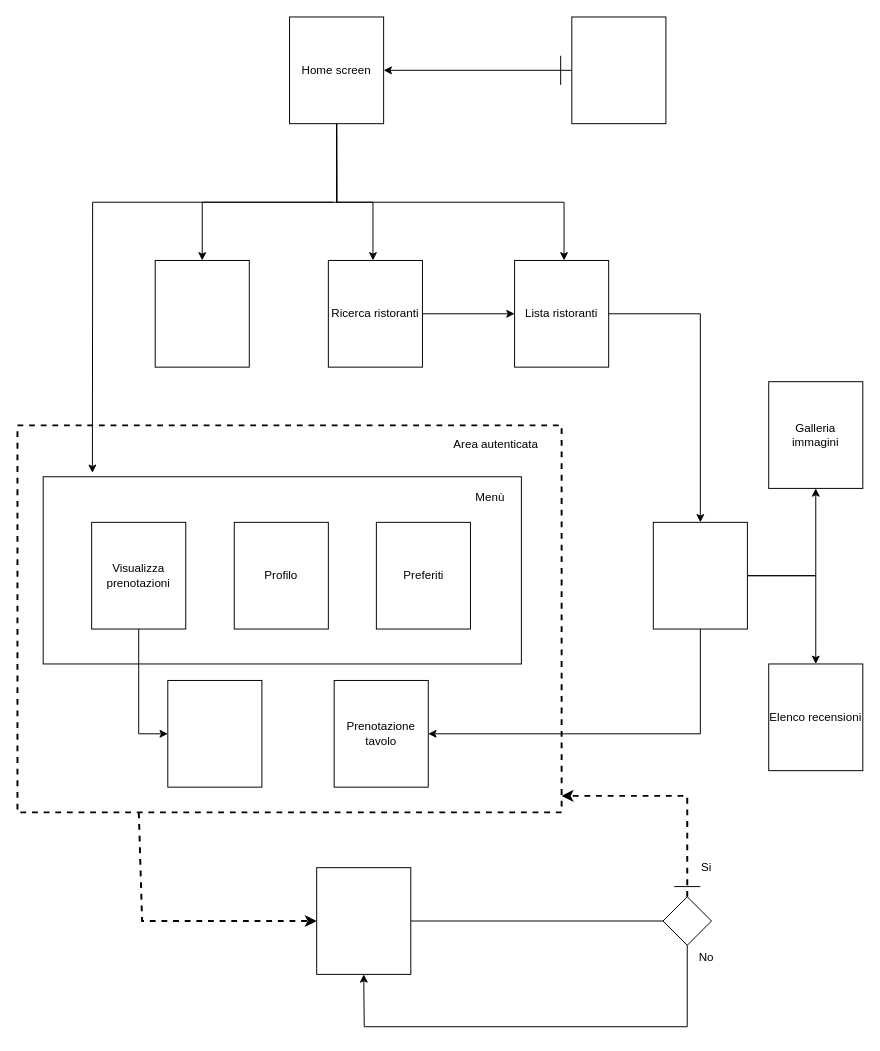
Some shapes in this 880 by 1051 pixel diagram are drawn without their labels. The box of each missing label's shape, as (x1, y1, x2, y2) in pixels:
Dettagli ristorante: (652, 521, 747, 629)
Effettua recensione: (167, 679, 262, 787)
Impostazioni: (154, 259, 249, 367)
Login: (316, 867, 411, 974)
Splash screen: (571, 16, 666, 124)
